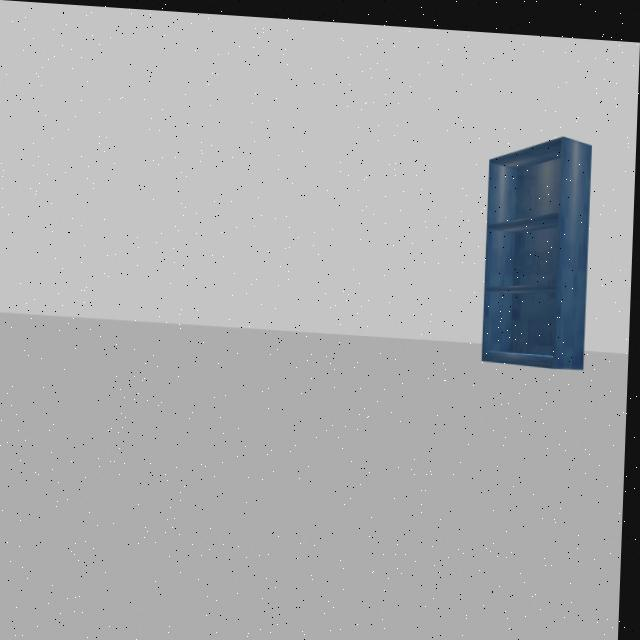shelf: (467, 109, 601, 390)
